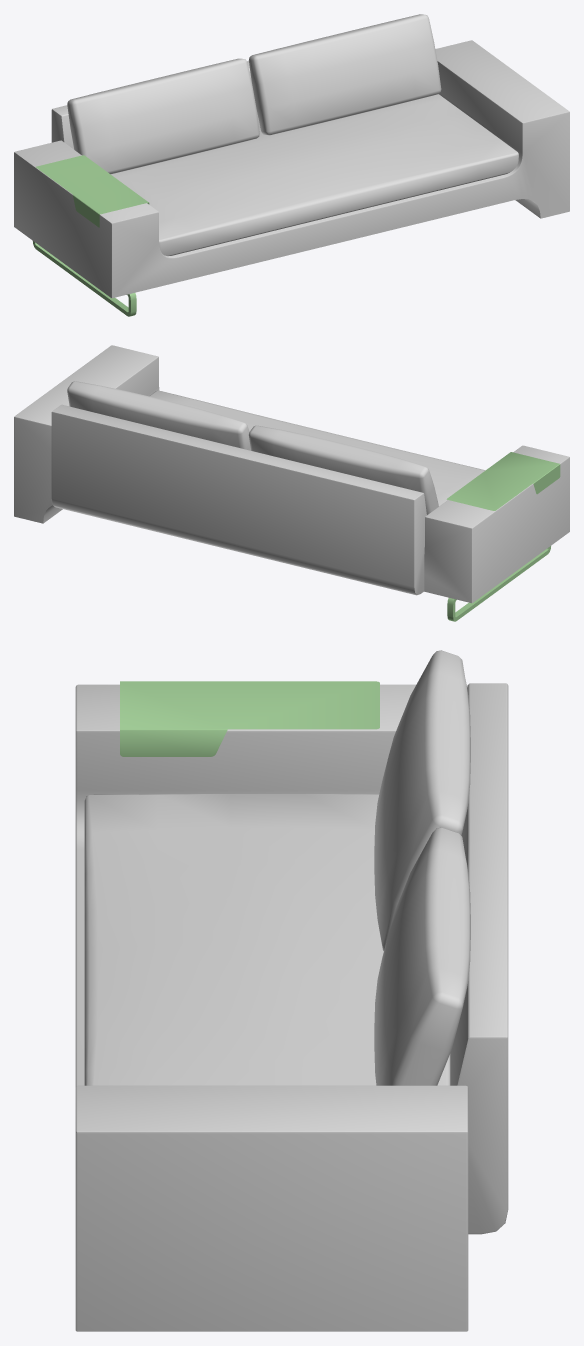
File: MZDSF04.FBX
3 views of the same model, one above another, from view 1: azimuth 30°, elevation 25°; view 2: azimuth 150°, elevation 25°; view 3: azimuth 270°, elevation 25° (orthographic). The views are drawn at different scales.
Parts seen in each view (by area): view 1: MZDSF04; view 2: MZDSF04; view 3: MZDSF04.
Part boxes in pixels (x1,y1,x2,y2): MZDSF04: [14, 14, 569, 316]; MZDSF04: [14, 345, 569, 621]; MZDSF04: [75, 650, 508, 1331].
Size of the model in its own units: 240 by 98 by 72.
